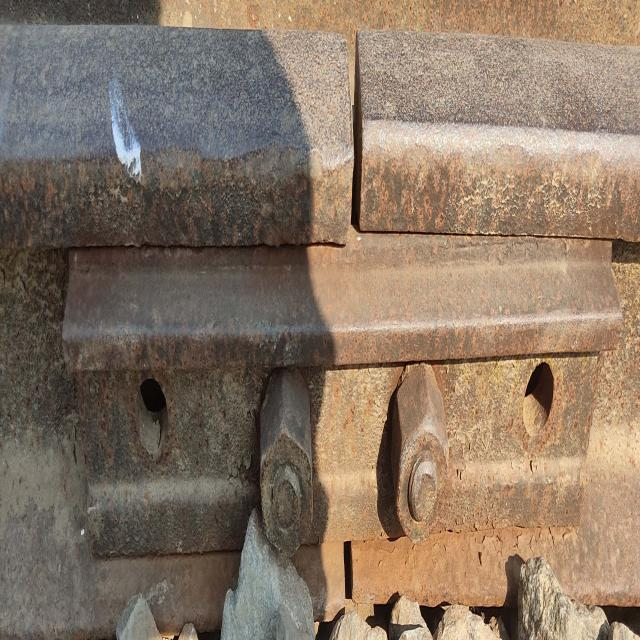broken_rail_low: (330, 15, 378, 241)
railway_join_bar_defects_low: (116, 337, 179, 485), (522, 348, 562, 471)
